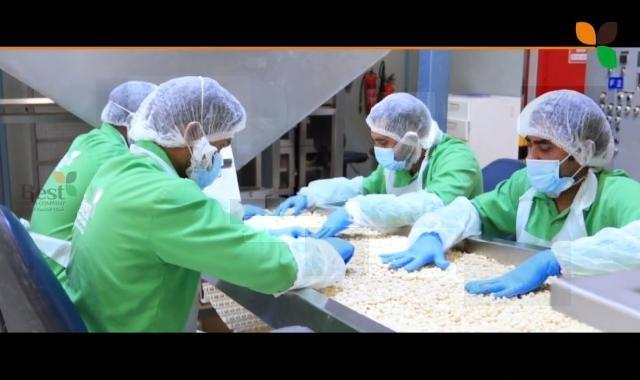apron: (465, 242, 572, 306), (369, 228, 456, 277), (305, 227, 365, 276), (245, 216, 315, 242), (314, 203, 361, 239), (267, 187, 314, 221), (230, 199, 280, 224)
gloves: (128, 76, 251, 154), (520, 86, 614, 174), (372, 93, 436, 156), (96, 78, 154, 124)
mask: (520, 142, 585, 202), (185, 123, 237, 190), (368, 136, 419, 175)
